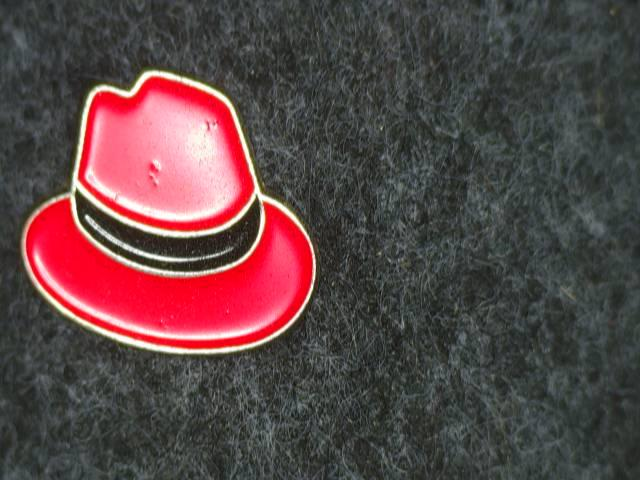Red-Hat: (11, 46, 383, 418)
